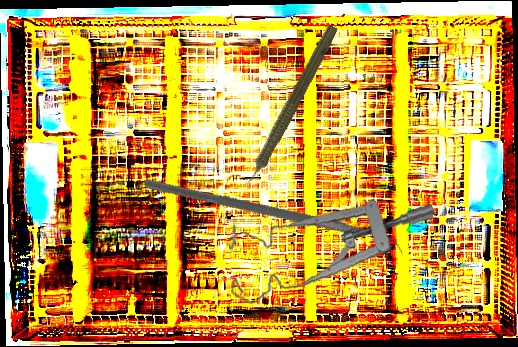Chopper: (143, 108, 406, 333)
Handpiece: (232, 20, 342, 199)
Speculum: (223, 181, 435, 324)
